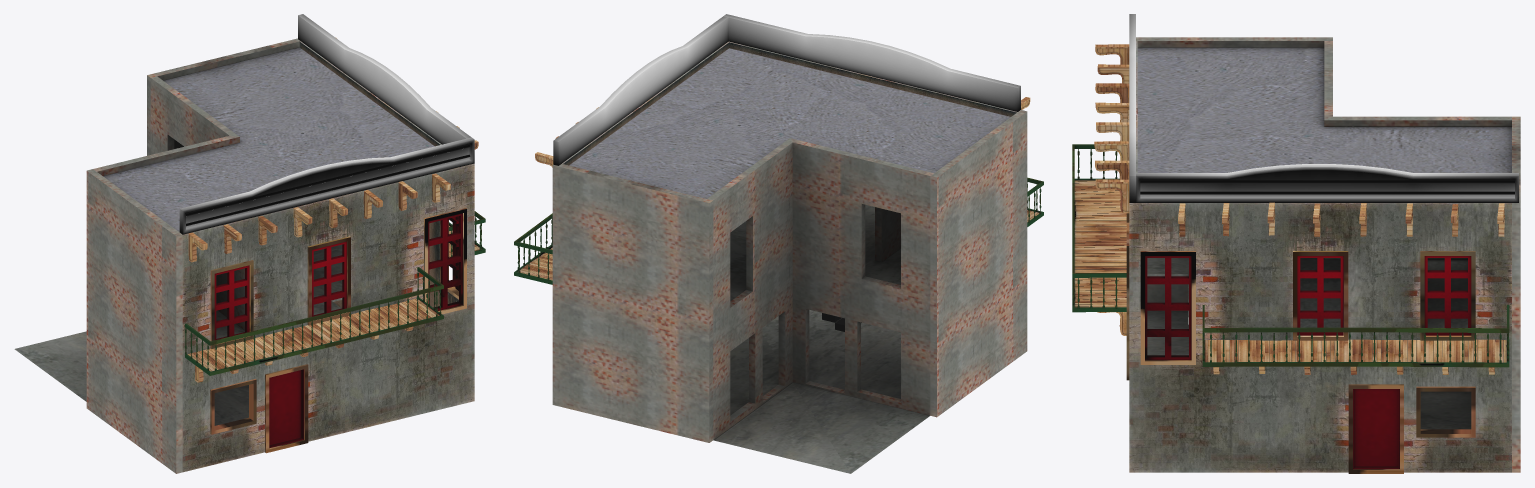
The model's file is casas_esquinas.glb.
The picture shows the model from 3 angles, left to right: view 1: azimuth 30°, elevation 25°; view 2: azimuth 150°, elevation 25°; view 3: azimuth 270°, elevation 25°; orthographic projection. The views are drawn at different scales.
Parts seen in each view (by area): view 1: casaa_Standard_1_0, casaa_fachadas_0, casaa_09__0, casaa_balcon_0, casaa_08 - Default_0, casaa_marcos_0; view 2: casaa_Standard_1_0, casaa_09__0, casaa_fachadas_0, casaa_balcon_0; view 3: casaa_fachadas_0, casaa_Standard_1_0, casaa_balcon_0, casaa_09__0, casaa_08 - Default_0, casaa_marcos_0.
Part boxes in pixels (x1,y1,x2,y2): casaa_Standard_1_0: (14, 38, 434, 473); casaa_fachadas_0: (182, 41, 474, 472); casaa_09__0: (179, 14, 474, 234); casaa_balcon_0: (185, 211, 485, 375); casaa_08 - Default_0: (188, 37, 478, 453); casaa_marcos_0: (214, 213, 462, 448); casaa_Standard_1_0: (552, 48, 1027, 473); casaa_09__0: (553, 14, 1020, 165); casaa_fachadas_0: (562, 41, 1017, 165); casaa_balcon_0: (514, 177, 1043, 284); casaa_fachadas_0: (1129, 41, 1511, 472); casaa_Standard_1_0: (1136, 37, 1520, 472); casaa_balcon_0: (1072, 144, 1509, 367); casaa_09__0: (1129, 14, 1518, 202); casaa_08 - Default_0: (1094, 44, 1504, 473); casaa_marcos_0: (1145, 256, 1471, 469).
Size of the model in its own units: 1053 by 794 by 1053.
7 materials, 6 textured.
